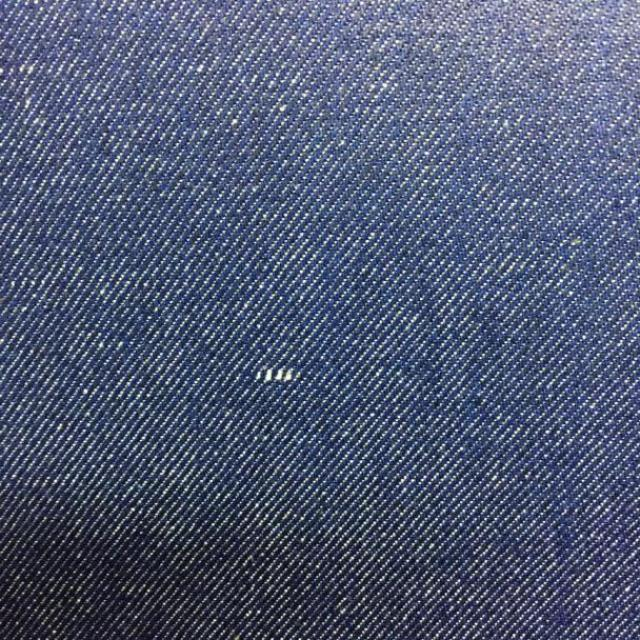Knot: (256, 368, 299, 383)
